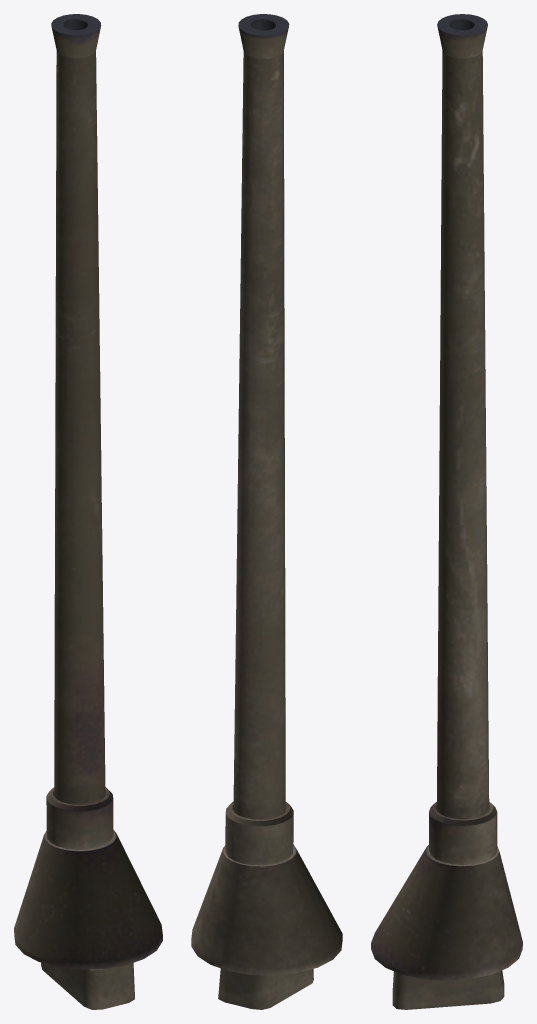
File: Gun_04.glb
3 renders of one model, left to right at view 1: azimuth 30°, elevation 25°; view 2: azimuth 150°, elevation 25°; view 3: azimuth 270°, elevation 25°, orthographic.
Parts seen in each view (by area): view 1: set_0_group_0; view 2: set_0_group_0; view 3: set_0_group_0.
Part boxes in pixels (box(x1,y1,x2,y2)): set_0_group_0: box(14, 14, 162, 1009); set_0_group_0: box(191, 14, 342, 1009); set_0_group_0: box(371, 14, 522, 1009).
Size of the model in its own units: 0.4627 by 3.27 by 0.4631.
Materials: 1 (1 with a texture image).
